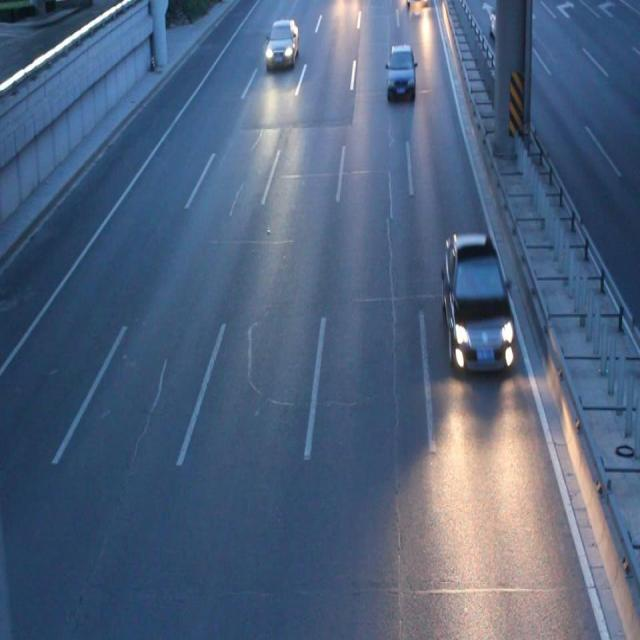car: (440, 234, 515, 370), (264, 20, 299, 68), (385, 45, 416, 98)
